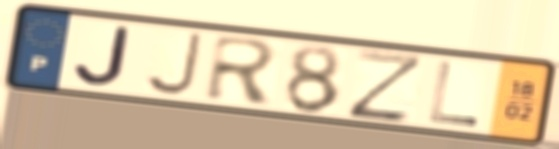8: (280, 42, 349, 115)
J: (141, 30, 206, 98), (69, 23, 134, 88)
L: (426, 59, 482, 129)
R: (202, 32, 281, 107)
Z: (344, 47, 428, 126)
